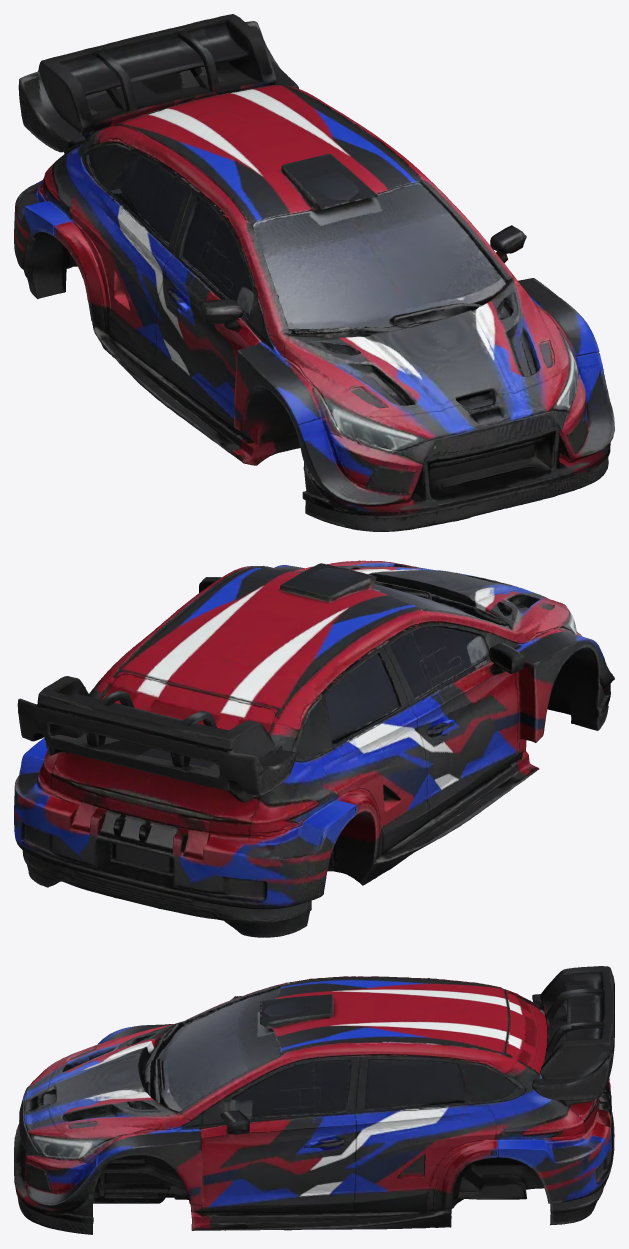
File: car_shadowfire_rs.glb
3 views of the same model, one above another, from view 1: azimuth 30°, elevation 25°; view 2: azimuth 150°, elevation 25°; view 3: azimuth 270°, elevation 25° (orthographic). The views are drawn at different scales.
Parts seen in each view (by area): view 1: tmpt4i_efs4obj; view 2: tmpt4i_efs4obj; view 3: tmpt4i_efs4obj.
Part boxes in pixels (x1,y1,x2,y2): tmpt4i_efs4obj: [14, 14, 614, 531]; tmpt4i_efs4obj: [14, 560, 614, 937]; tmpt4i_efs4obj: [14, 966, 614, 1234].
Size of the model in its own units: 0.5052 by 0.3206 by 1.
Materials: 1 (1 with a texture image).
